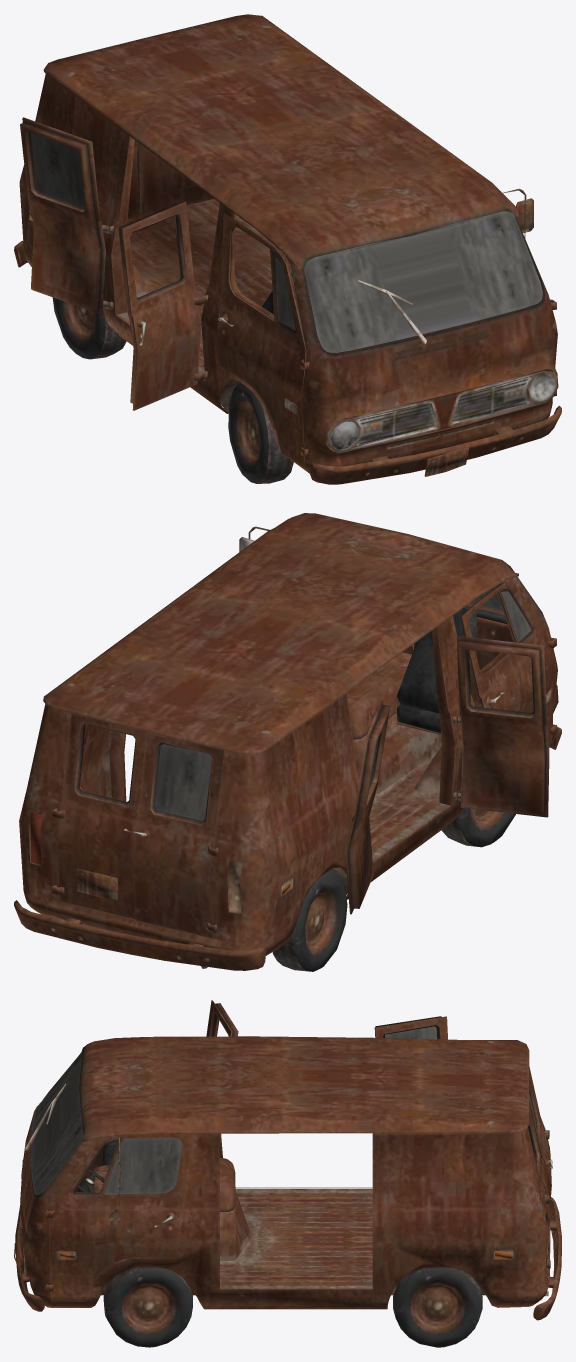
The model's file is van_b_rusty.glb.
The picture shows the model from 3 angles, top to bottom: view 1: azimuth 30°, elevation 25°; view 2: azimuth 150°, elevation 25°; view 3: azimuth 270°, elevation 25°; orthographic projection. The views are drawn at different scales.
Visible parts, largest first — view 1: van_b_LOD0; view 2: van_b_LOD0; view 3: van_b_LOD0.
Part boxes in pixels (x1,y1,x2,y2): van_b_LOD0: (14,14,561,484); van_b_LOD0: (14,513,561,971); van_b_LOD0: (14,1000,561,1347).
Bounding box in the file's own units: 3.14 × 2.21 × 4.9.
Materials: 2 (2 with a texture image).
